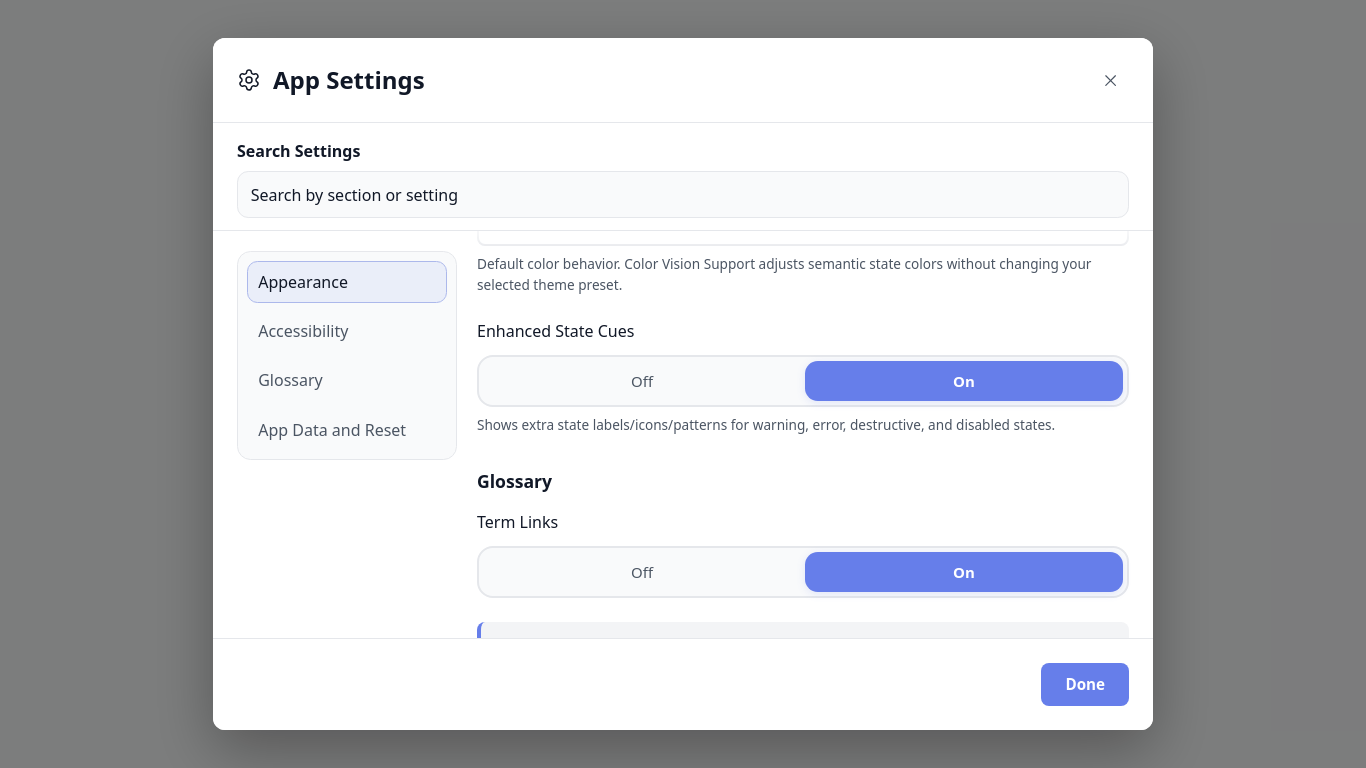
Test case: SettingsModal › persists enhanced state cue selection
(page scrolled)
Expected: the text "Enhanced State Cues" is shown, [477,320,634,342]
Click the button "Off" below "Enhanced State Cues": click(642, 381) [483,361,801,401]
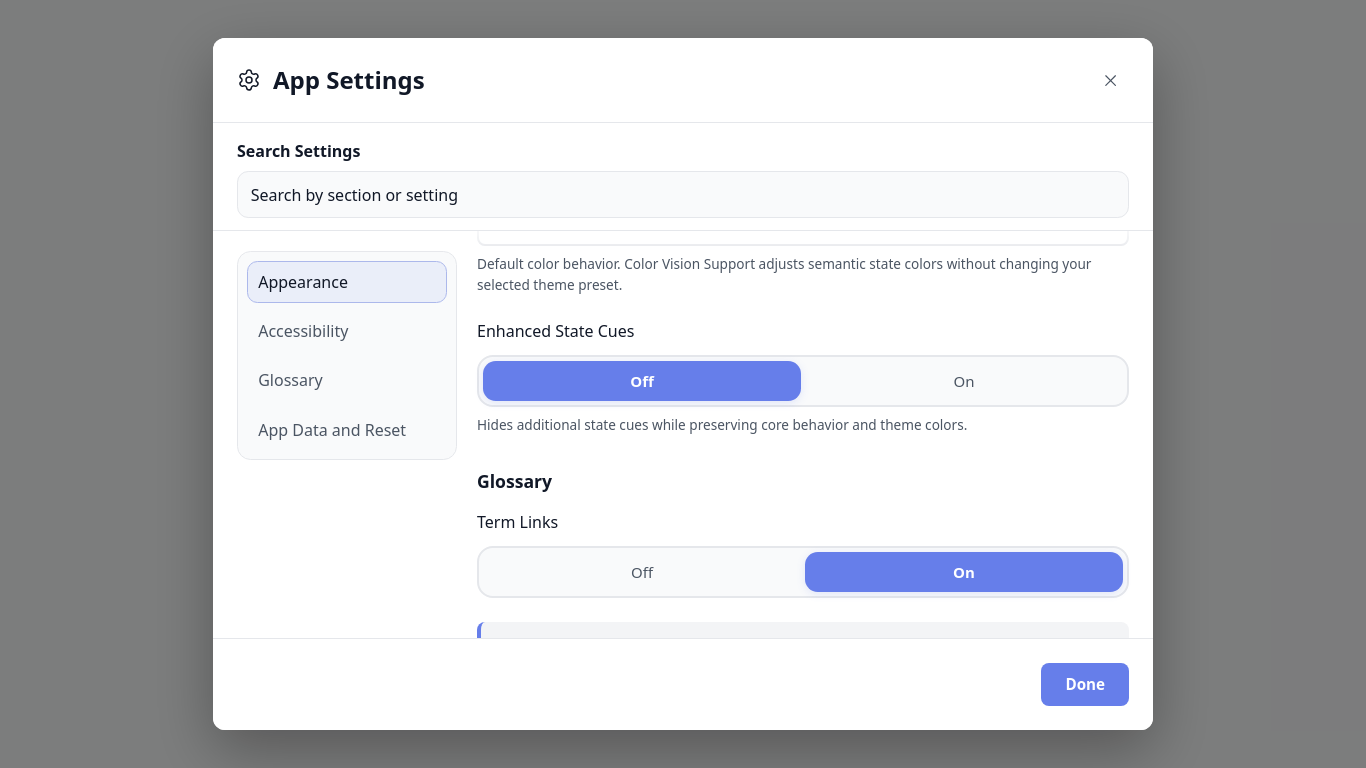
Expected: the text "Hides additional state cues while preserving core behavior and theme colors." is shown, [477,415,967,434]
